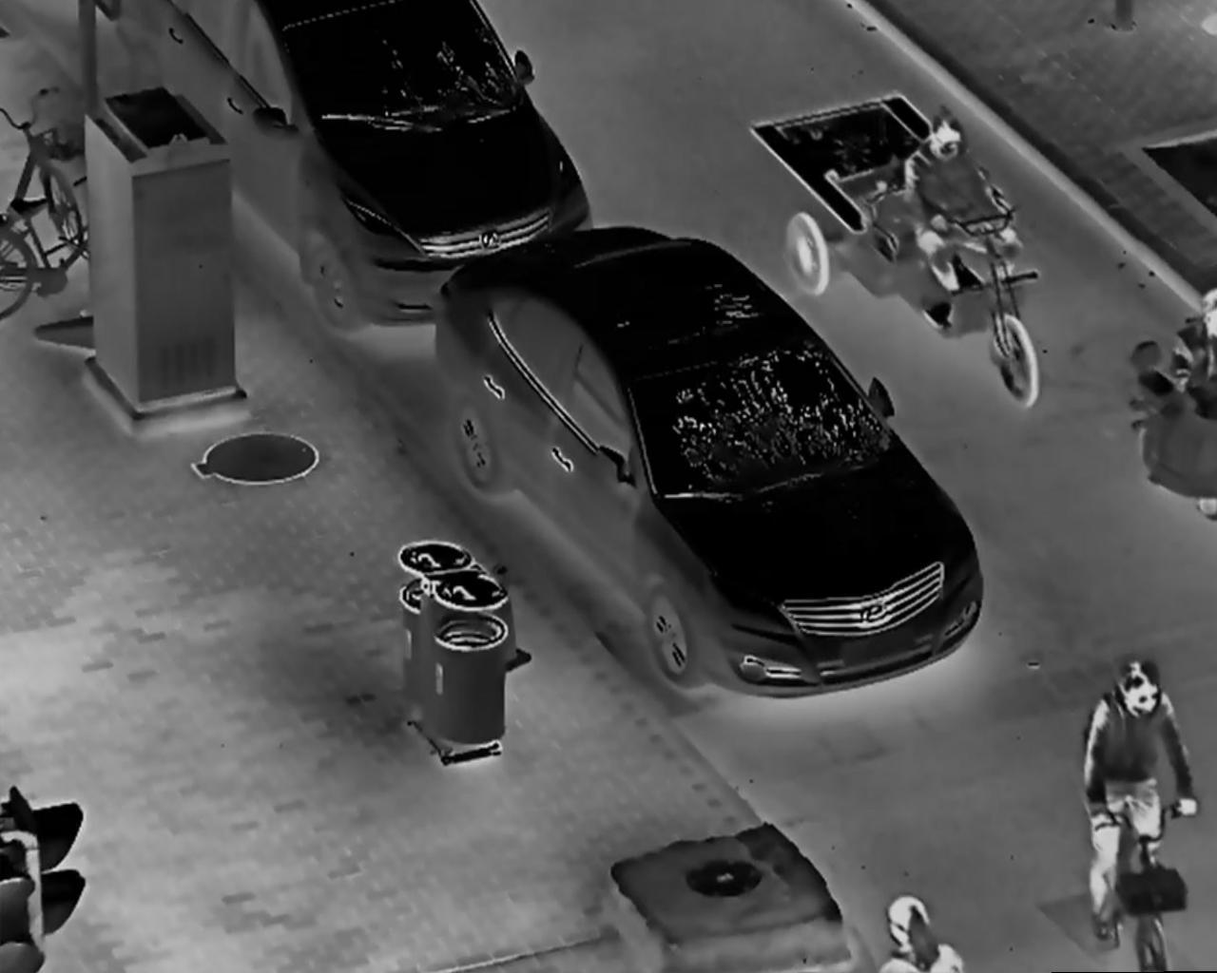person: (1072, 653, 1202, 942), (904, 105, 1027, 311), (1168, 280, 1217, 484), (862, 893, 970, 973)
